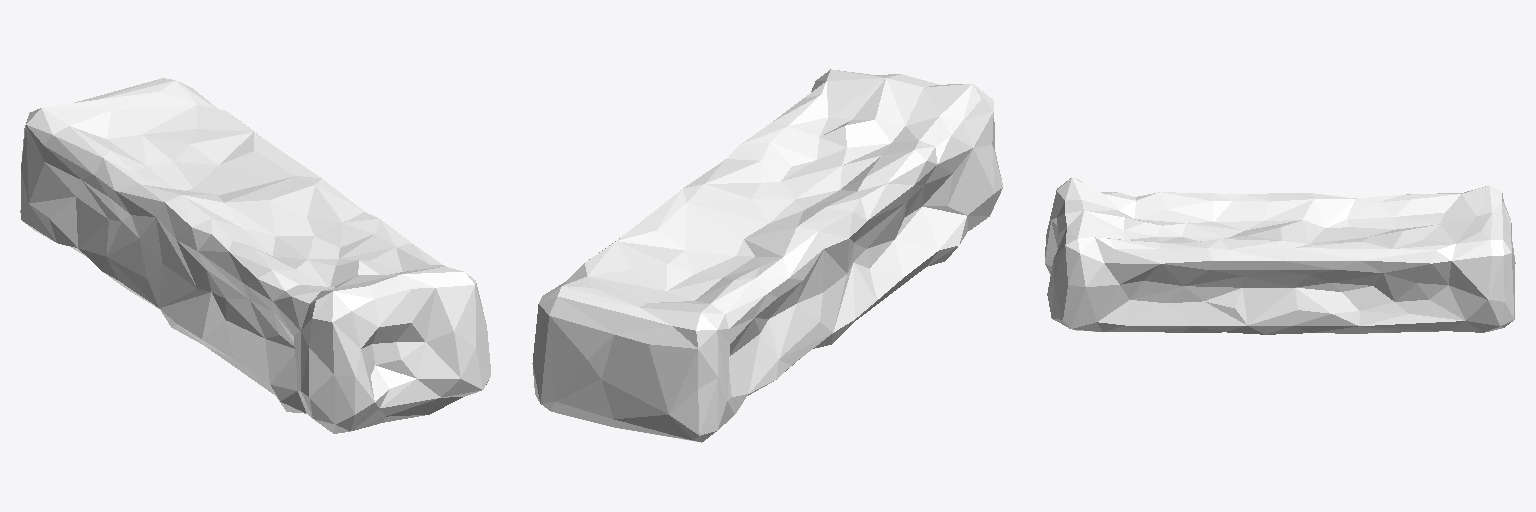
URDF robot description (atb1_bar-16mm):
<?xml version="0.0" ?>
<robot name="atb1_bar-16mm">
  <link name="baseLink">
    <contact>
      <friction_anchor/>
      <lateral_friction value="0.8"/>
      <spinning_friction value="0.001"/>
      <rolling_friction value="0.001"/>
      <contact_cfm value="0.0"/>
      <contact_erp value="0.2"/>
    </contact>
    <inertial>
       <origin rpy="0 0 0" xyz="0 0 0"/>
       <mass value="0.01"/>
       <inertia ixx="1e-3" ixy="0" ixz="0" iyy="1e-3" iyz="0" izz="1e-3"/>
    </inertial>
    <visual>
      <origin rpy="0 0 0" xyz="0 0 0"/>
      <geometry>
        <mesh filename="obj/fused_model.obj" scale="1 1 1"/>
      </geometry>
      <material name="white">
        <color rgba="1. 1. 1. 1."/>
      </material>
    </visual>
    <collision>
      <origin rpy="0 0 0" xyz="0 0 0"/>
      <geometry>
        <mesh filename="obj/fused_model.obj" scale="1 1 1"/>
      </geometry>
    </collision>
  </link>
</robot>

--- Render facts (derived) ---
Views: 3 orthographic renders of the robot side by side, from view 1: azimuth 30°, elevation 25°; view 2: azimuth 150°, elevation 25°; view 3: azimuth 270°, elevation 25°.
Robot: atb1_bar-16mm — 1 links, 0 joints (none); root link baseLink; default pose: all joints at 0.
Visible links, largest first — view 1: baseLink; view 2: baseLink; view 3: baseLink.
Link boxes in pixels (x1,y1,x2,y2): baseLink: (20,78,490,433); baseLink: (532,69,1002,442); baseLink: (1045,177,1515,334).
Size in the robot's own frame: 0.0185 by 0.053 by 0.0138 metres.
Meshes: 1 distinct files referenced, 1 mesh visuals loaded (1 OBJ).